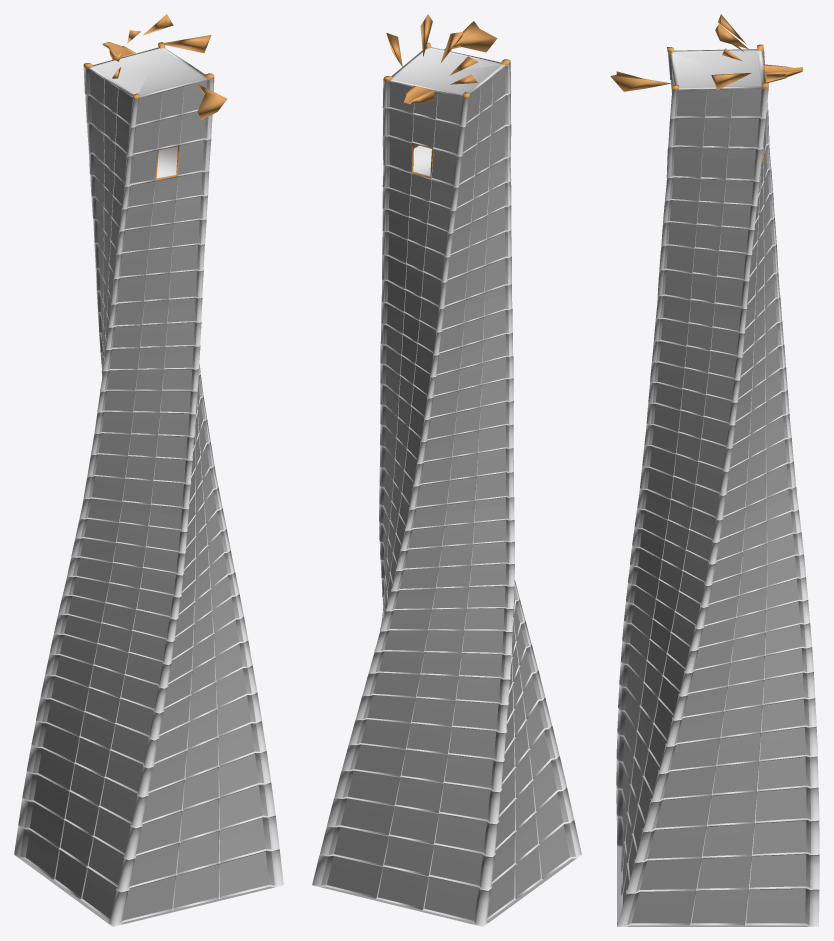
File: Final_Tower 1.fbx
The picture shows the model from 3 angles, left to right: view 1: azimuth 30°, elevation 25°; view 2: azimuth 150°, elevation 25°; view 3: azimuth 270°, elevation 25°; orthographic projection. The views are drawn at different scales.
Visible parts, largest first — view 1: Final_Tower; view 2: Final_Tower; view 3: Final_Tower.
Boxes of the visible parts, left/top/right/bottom form: Final_Tower: left=14, top=14, right=283, bottom=926; Final_Tower: left=312, top=14, right=581, bottom=926; Final_Tower: left=610, top=14, right=819, bottom=926.
Size of the model in its own units: 14.51 by 68.42 by 14.94.
